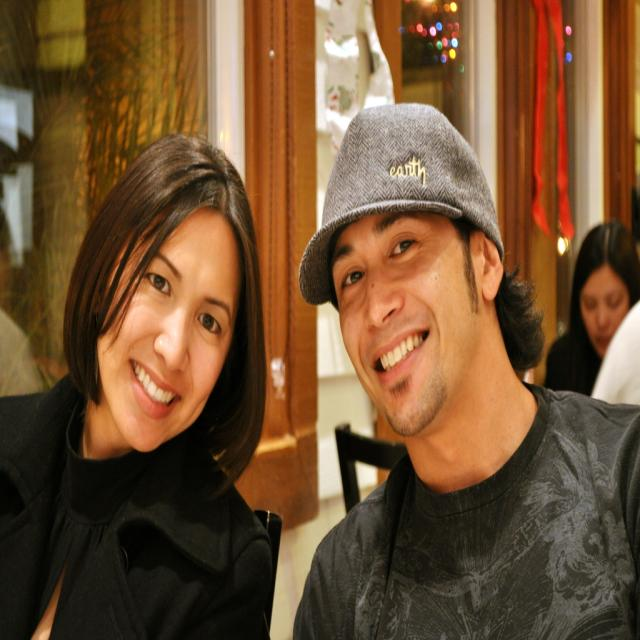Hat: (298, 103, 504, 307)
